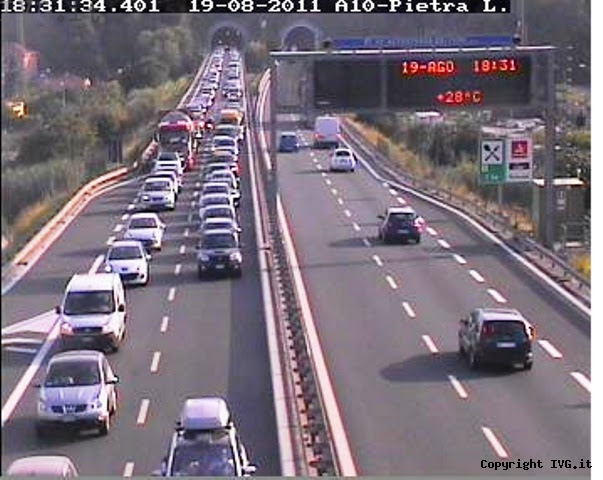car: (28, 358, 122, 437), (456, 303, 552, 377), (56, 276, 137, 353), (98, 246, 157, 285), (195, 236, 242, 277), (376, 203, 418, 247), (122, 215, 162, 258), (136, 183, 175, 214), (327, 148, 356, 173), (278, 130, 301, 154)
